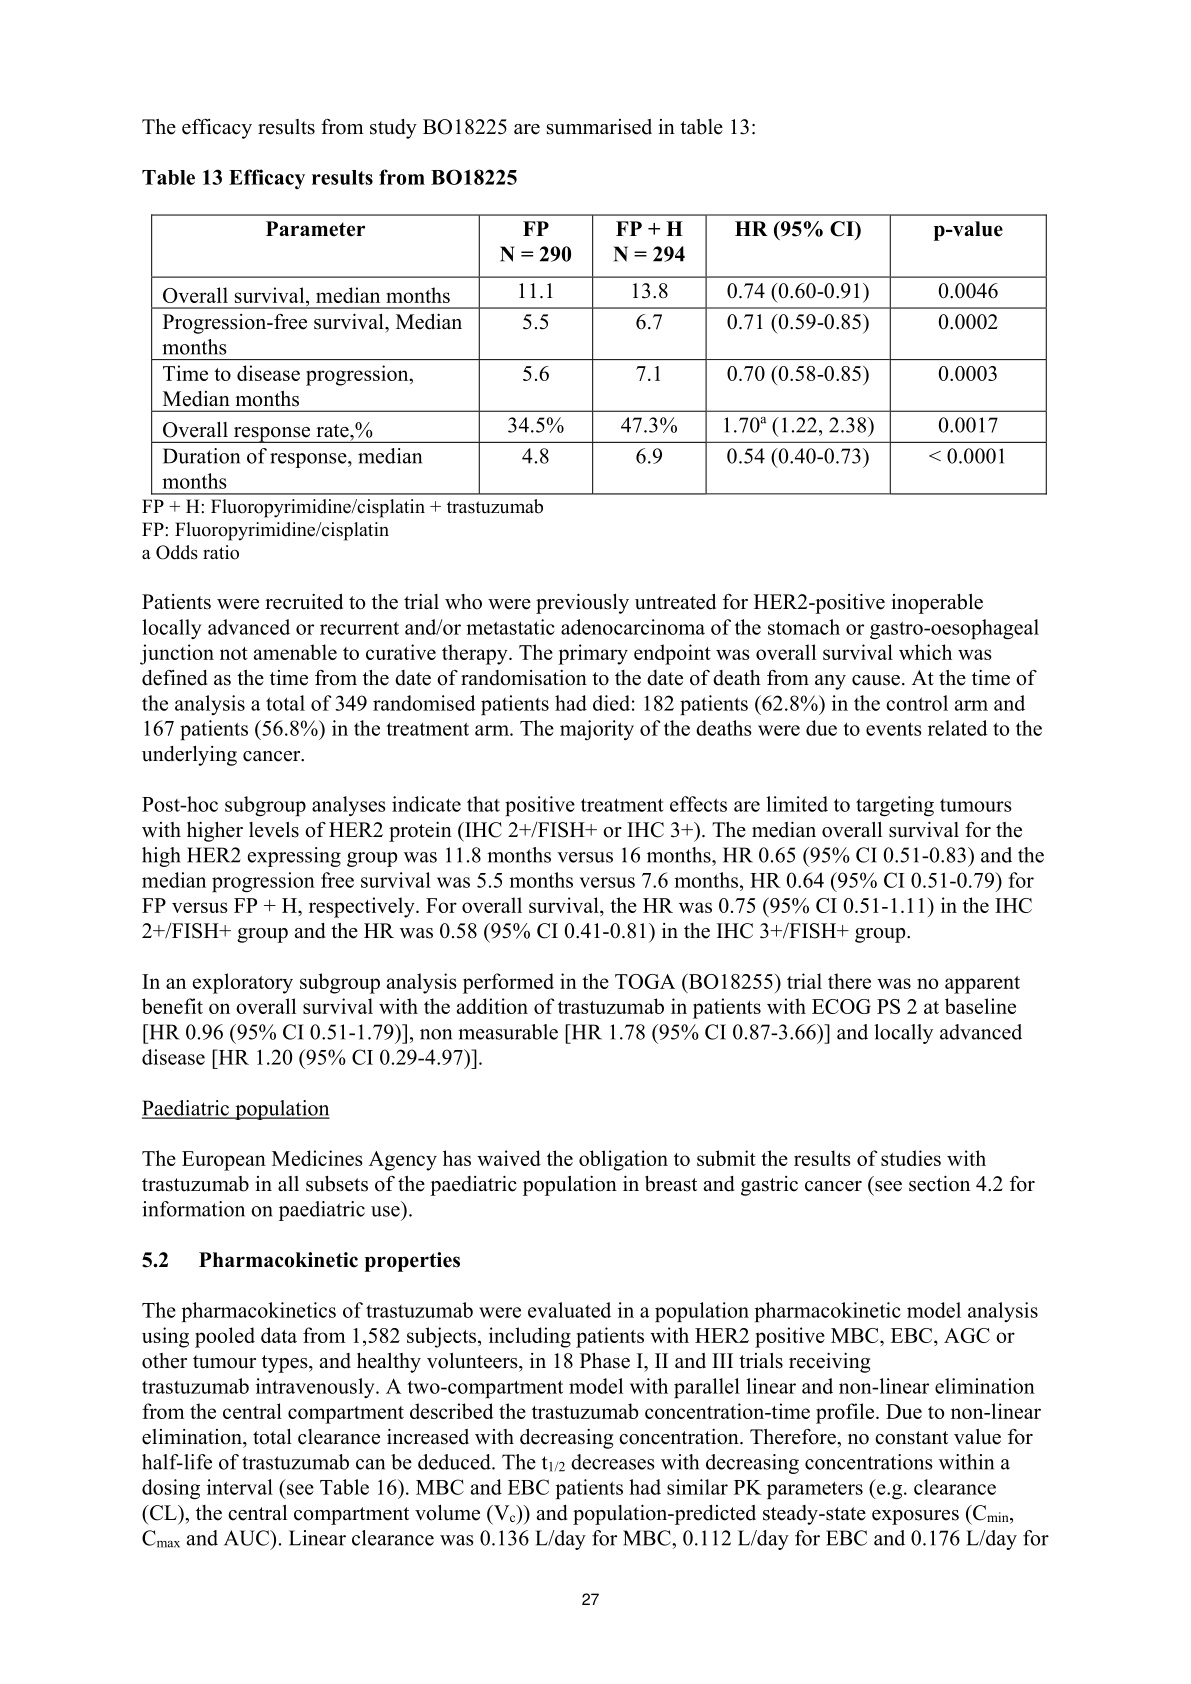full_lined: (150, 213, 1048, 496)
